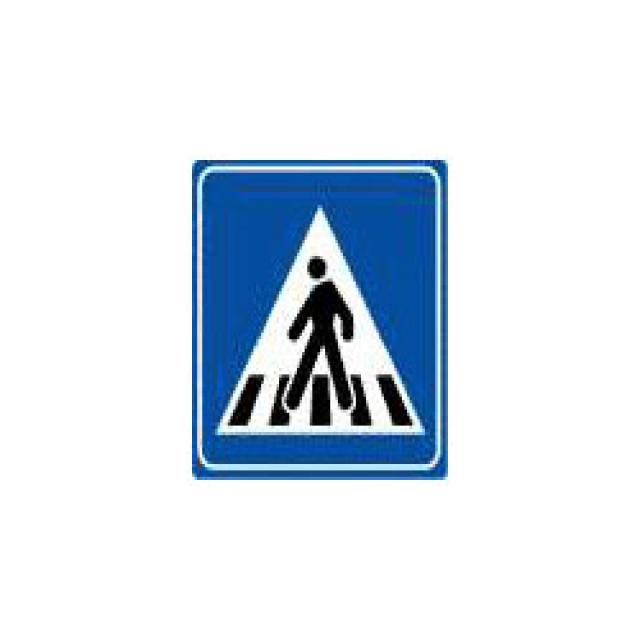Pedestrian crosswalk: (190, 156, 451, 484)
